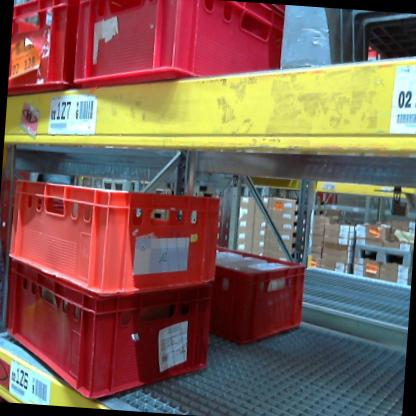pallet: (346, 238, 414, 275)
small_load_carrier: (1, 173, 228, 298), (70, 0, 295, 105), (196, 236, 319, 351), (11, 0, 84, 100)
